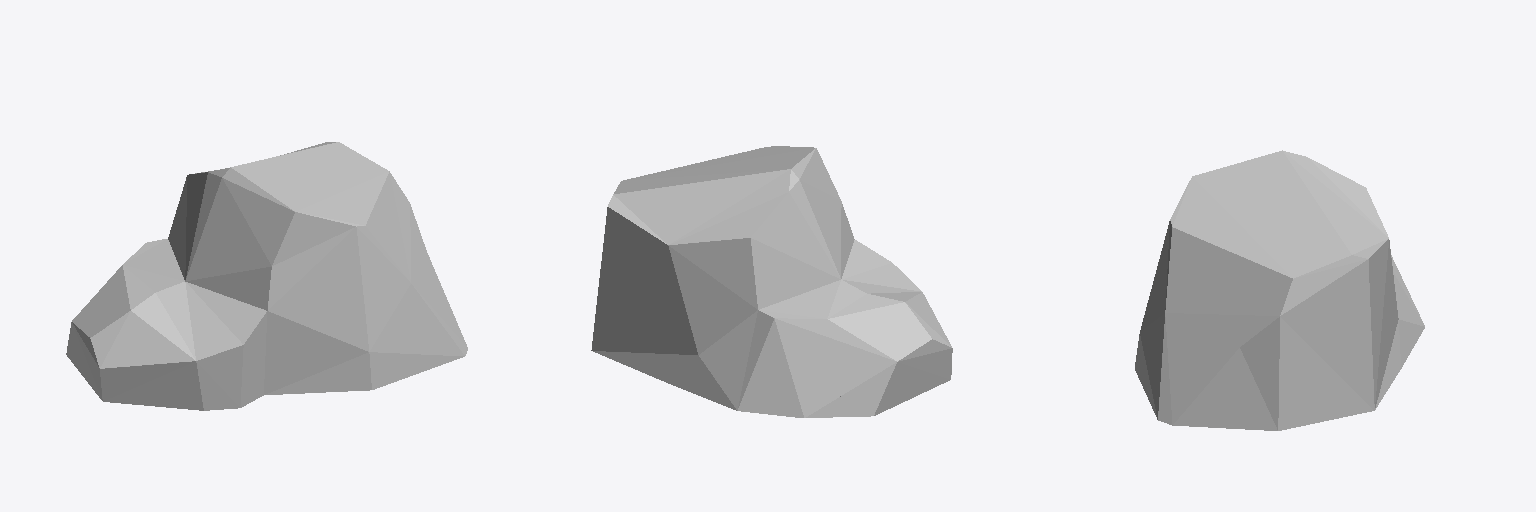
File: Rock_6.obj
3 views of the same model, side by side, from view 1: azimuth 30°, elevation 25°; view 2: azimuth 150°, elevation 25°; view 3: azimuth 270°, elevation 25° (orthographic).
Parts seen in each view (by area): view 1: Rock_6; view 2: Rock_6; view 3: Rock_6.
Boxes of the visible parts, <box> form: Rock_6: <box>66,142,467,410</box>; Rock_6: <box>591,146,952,417</box>; Rock_6: <box>1135,150,1424,430</box>.
Bounding box in the file's own units: 2.9 × 1.52 × 2.14.